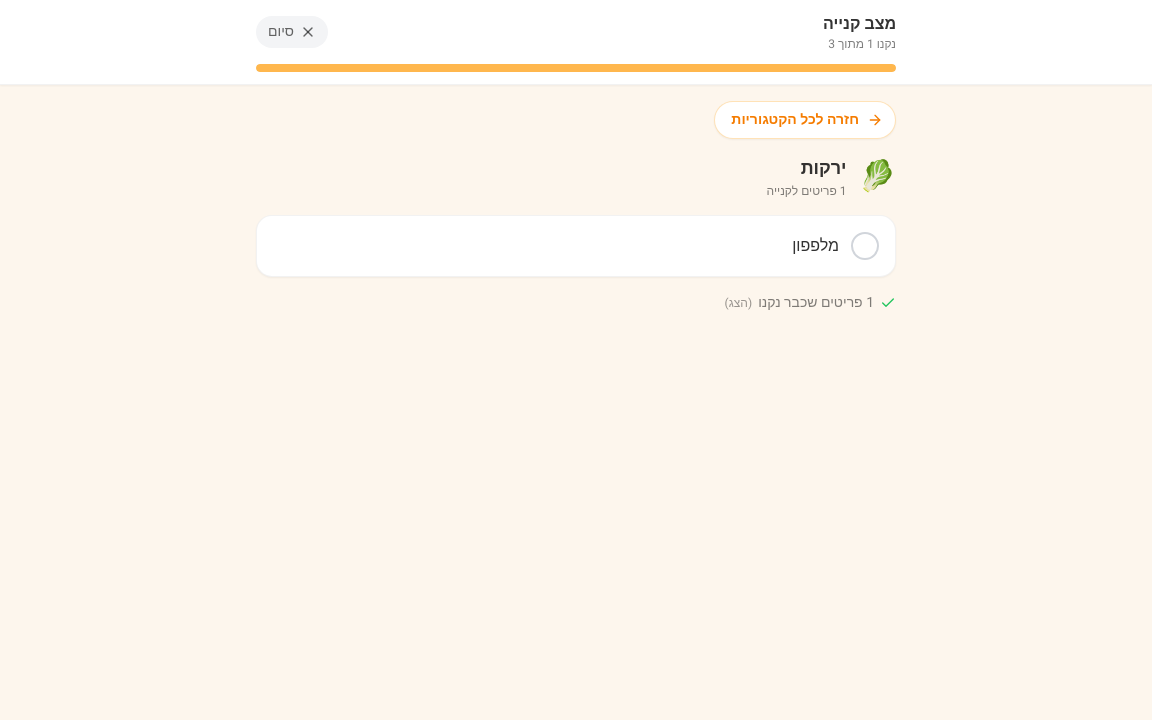
Test: ShoppingMode - category detail › moves an item into the completed section after it is bought during shopping
Earlier steps of the test are not shown.
Step 1. Click the text "1 פריטים שכבר נקנו" → (816, 303), box [758, 293, 874, 313]
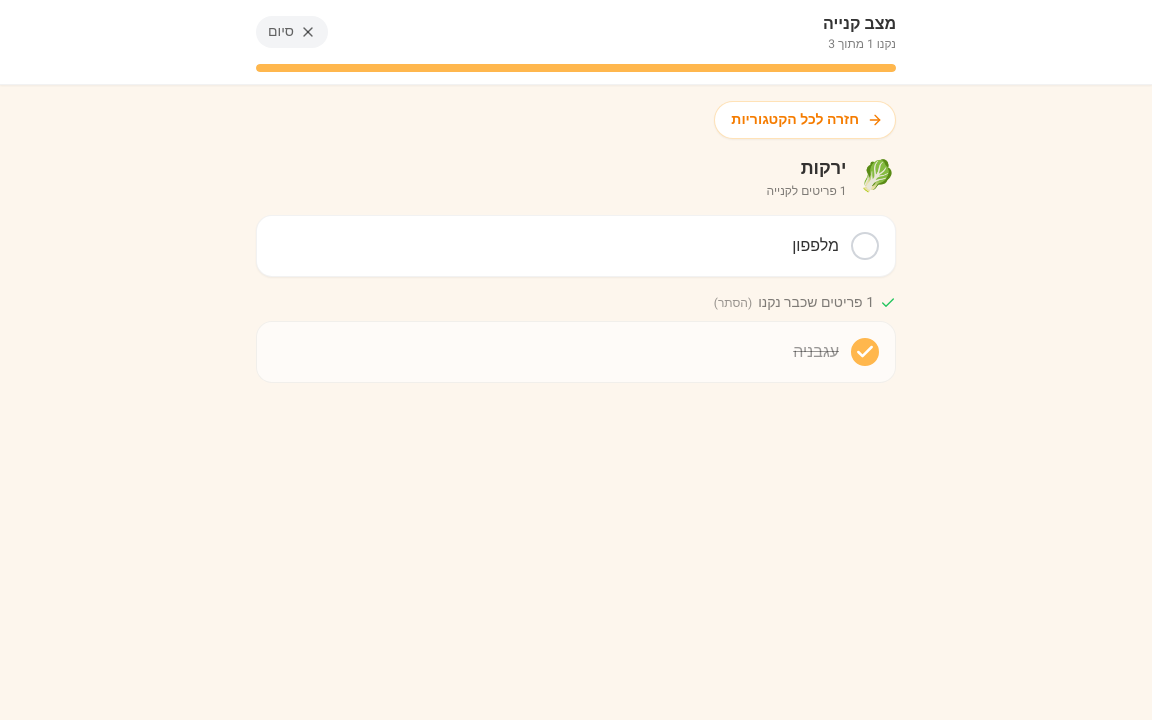
Check: the text "עגבניה" is shown, box [793, 340, 839, 364]
